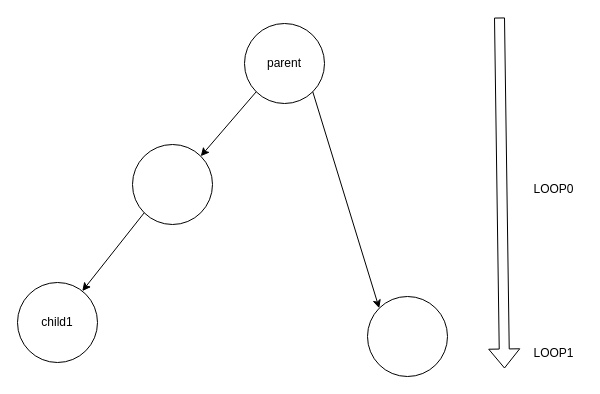
The diagram is 600 pixels wide and 394 high, and some of its shapes have lost their labels. Here are the shapes that lost their labels. From the top down, the box of each, then its label:
(132, 144, 212, 224): child0
(366, 296, 448, 376): child2
